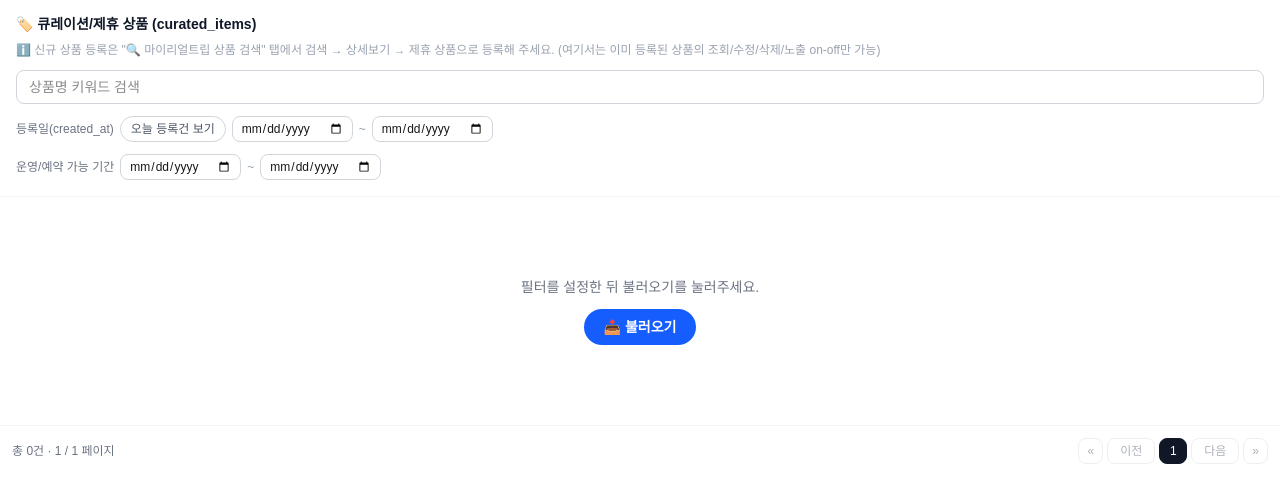
Test: CuratedItemsPanel › 종료일만 설정된 상품은 "~ 2026-09-30"처럼 한쪽만 보여준다(겹친 물결표 버그 수정)
Click the button "📥 불러오기".
click(640, 327)  # box [584,309,696,345]
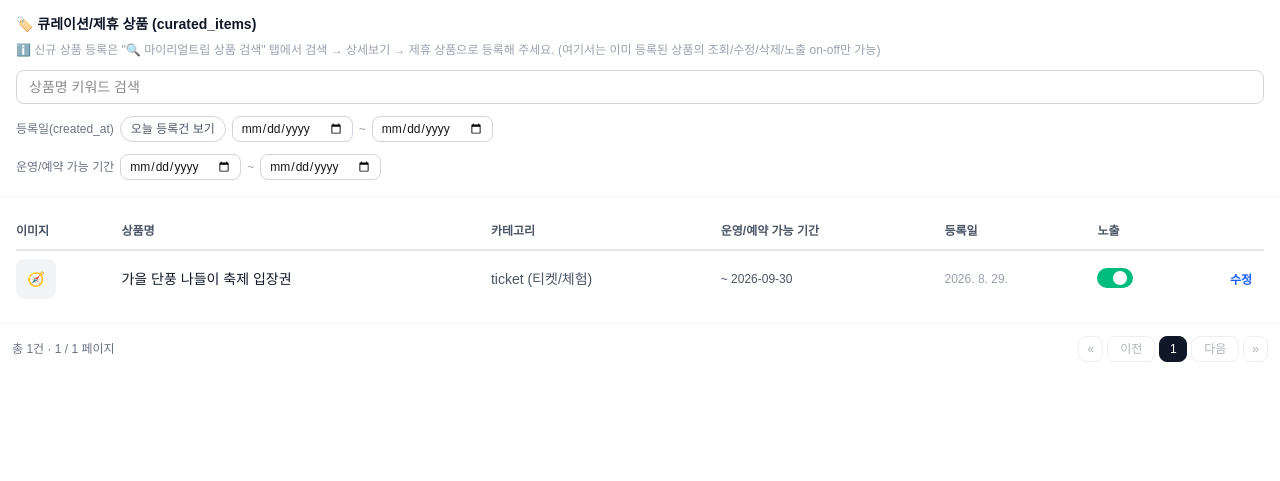
expect the text "~ 2026-09-30" is shown: met, box [721,250,944,307]
